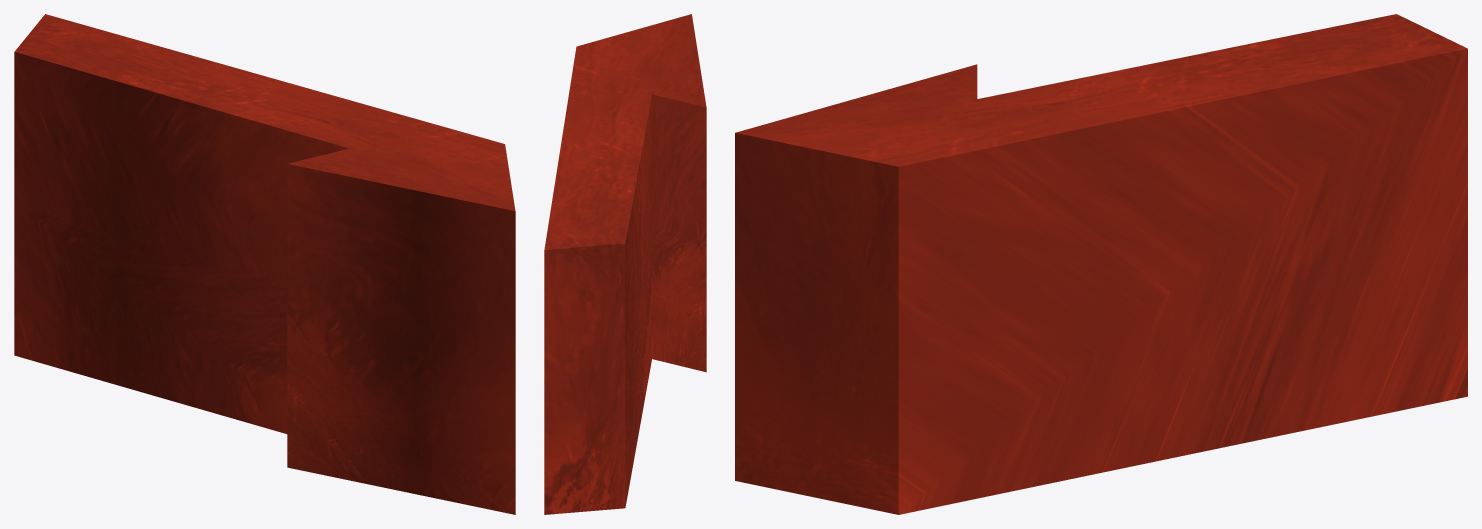
The model's file is orange6.FBX.
The picture shows the model from 3 angles, left to right: view 1: azimuth 30°, elevation 25°; view 2: azimuth 150°, elevation 25°; view 3: azimuth 270°, elevation 25°; orthographic projection. The views are drawn at different scales.
Parts seen in each view (by area): view 1: Boîte001; view 2: Boîte001; view 3: Boîte001.
Boxes of the visible parts, bbox=[...] form: Boîte001: bbox=[14, 14, 515, 514]; Boîte001: bbox=[544, 14, 706, 514]; Boîte001: bbox=[735, 14, 1467, 514].
Size of the model in its own units: 4.22 by 4.48 by 8.55.
Materials: 1 (1 with a texture image).
